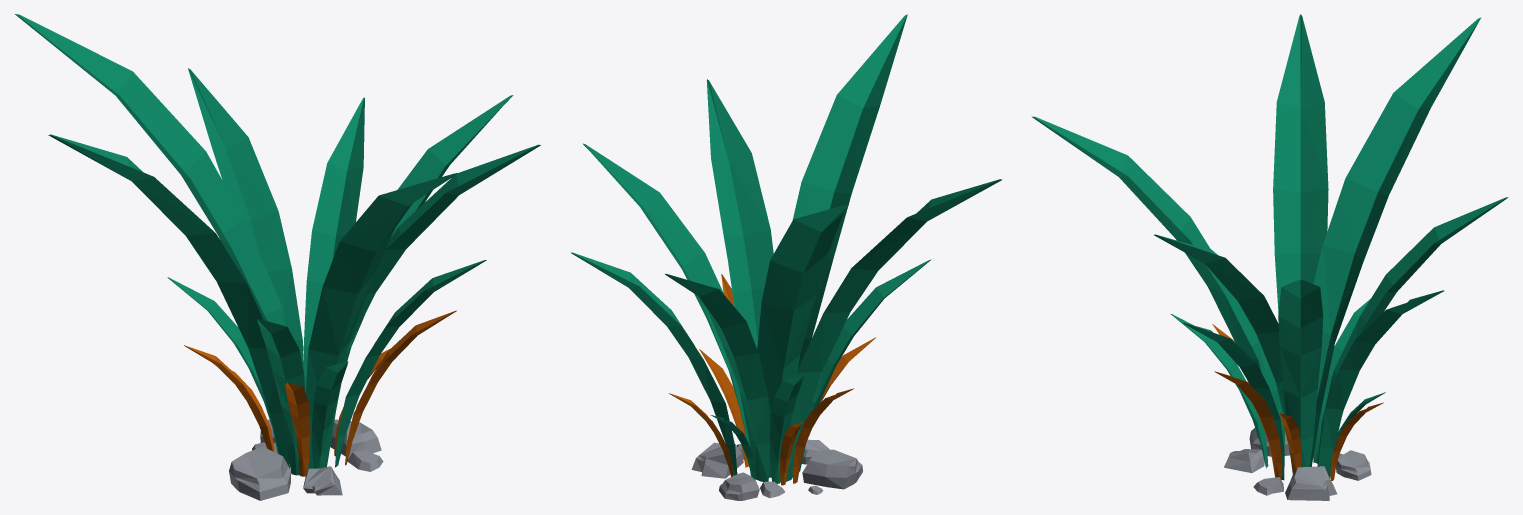
The model's file is SM_Alien_Bush.fbx.
3 views of the same model, side by side, from view 1: azimuth 30°, elevation 25°; view 2: azimuth 150°, elevation 25°; view 3: azimuth 270°, elevation 25° (orthographic). The views are drawn at different scales.
Parts seen in each view (by area): view 1: SM_Alien_Bush; view 2: SM_Alien_Bush; view 3: SM_Alien_Bush.
Boxes of the visible parts, left/top/right/bottom form: SM_Alien_Bush: left=15, top=14, right=540, bottom=500; SM_Alien_Bush: left=570, top=14, right=1002, bottom=500; SM_Alien_Bush: left=1031, top=14, right=1508, bottom=500.
Bounding box in the file's own units: 150 × 129 × 151.
